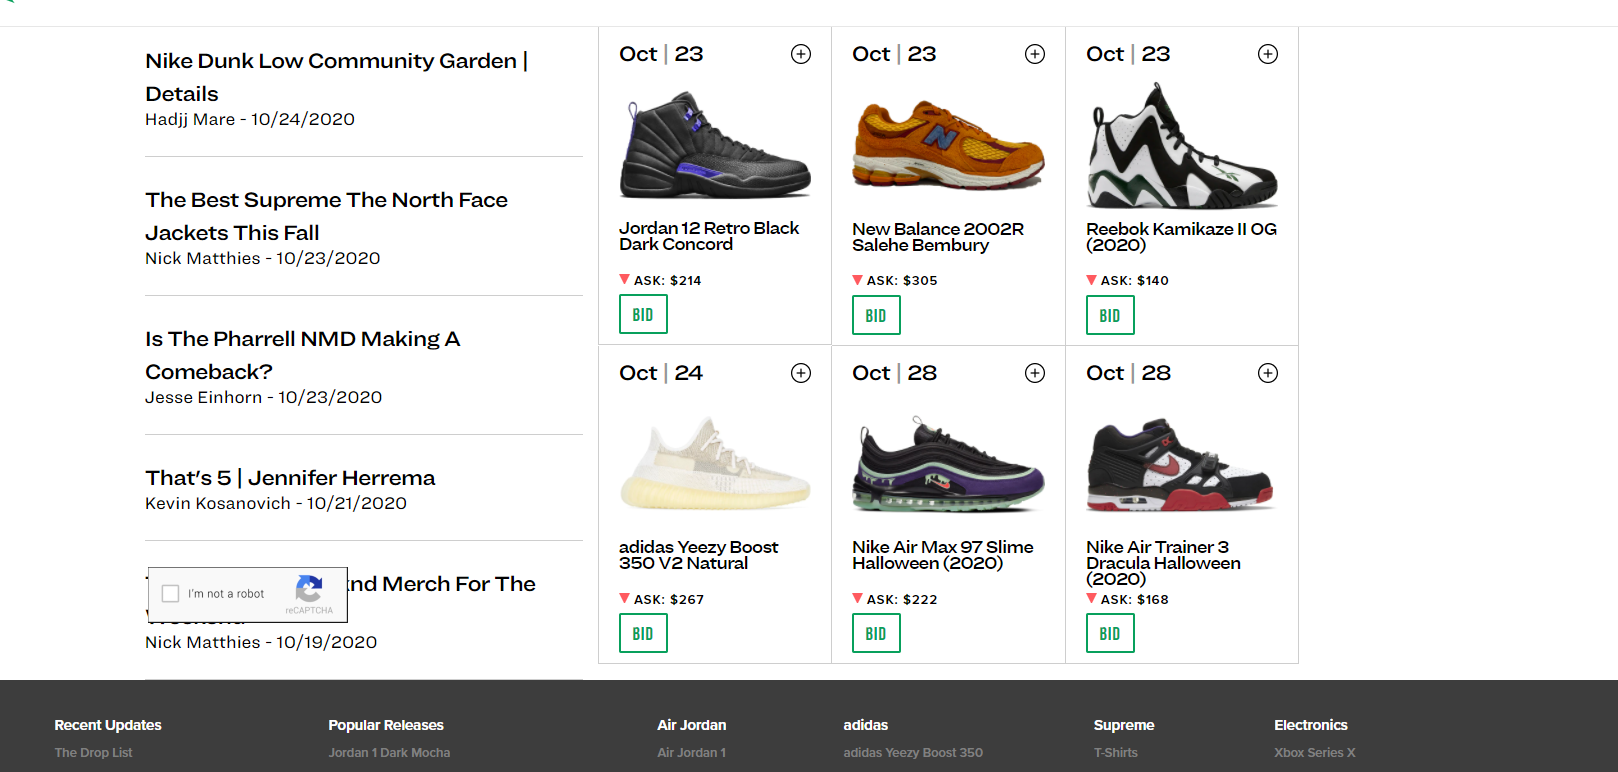captcha: (139, 562, 360, 631)
